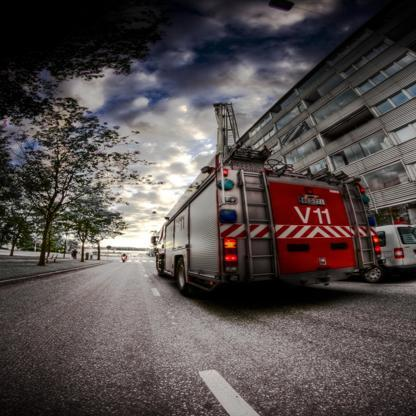fire-truck: (106, 112, 396, 330)
